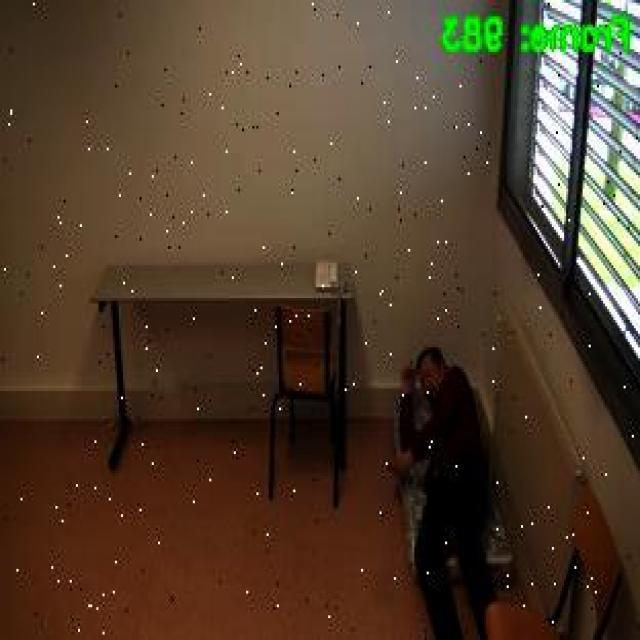fall: (378, 330, 504, 638)
